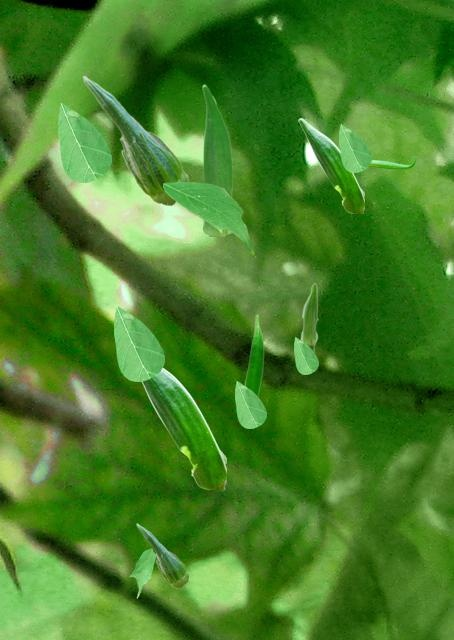okra: (82, 75, 188, 205), (141, 368, 225, 488), (298, 118, 363, 212), (202, 84, 231, 235), (136, 523, 188, 587), (244, 314, 263, 395), (300, 283, 317, 351), (369, 156, 414, 169)
